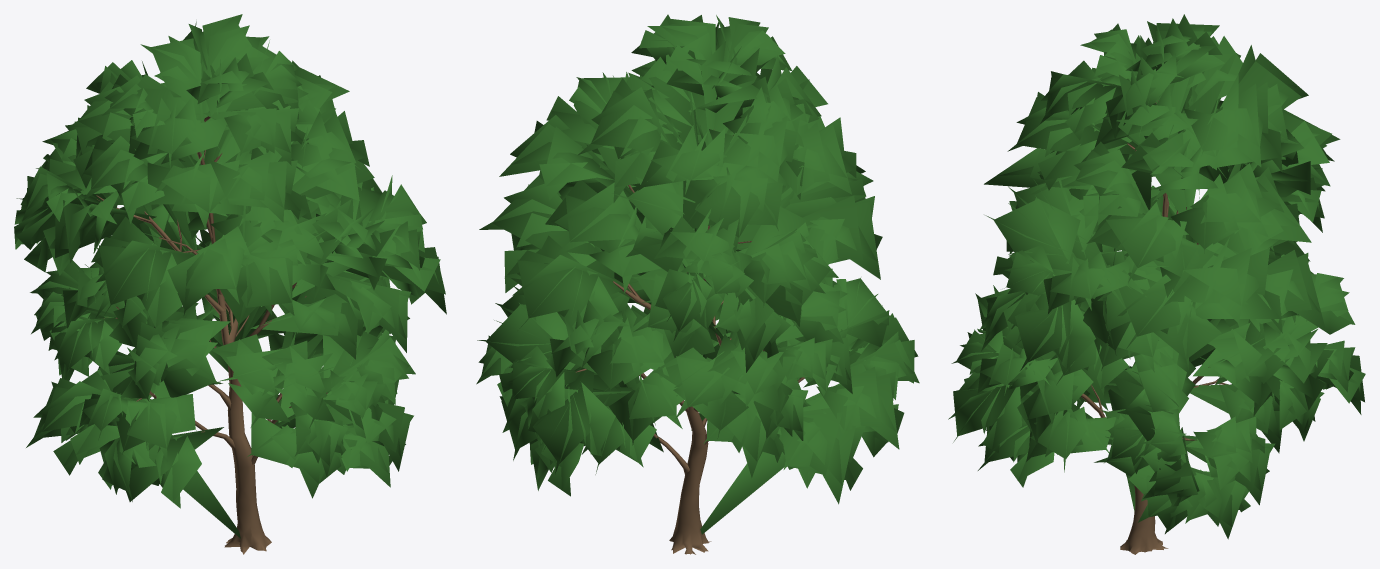
Rendered from Maple_A.obj.
3 renders of one model, left to right at view 1: azimuth 30°, elevation 25°; view 2: azimuth 150°, elevation 25°; view 3: azimuth 270°, elevation 25°, orthographic. The views are drawn at different scales.
Visible parts, largest first — view 1: Leaves, Trunk; view 2: Leaves, Trunk; view 3: Leaves, Trunk.
Part boxes in pixels (x1,y1,x2,y2): Leaves: (14, 14, 446, 538); Trunk: (96, 116, 327, 554); Leaves: (476, 14, 919, 534); Trunk: (576, 129, 804, 554); Leaves: (948, 14, 1365, 539); Trunk: (1081, 100, 1230, 554).
Size of the model in its own units: 89.97 by 120 by 88.34.
